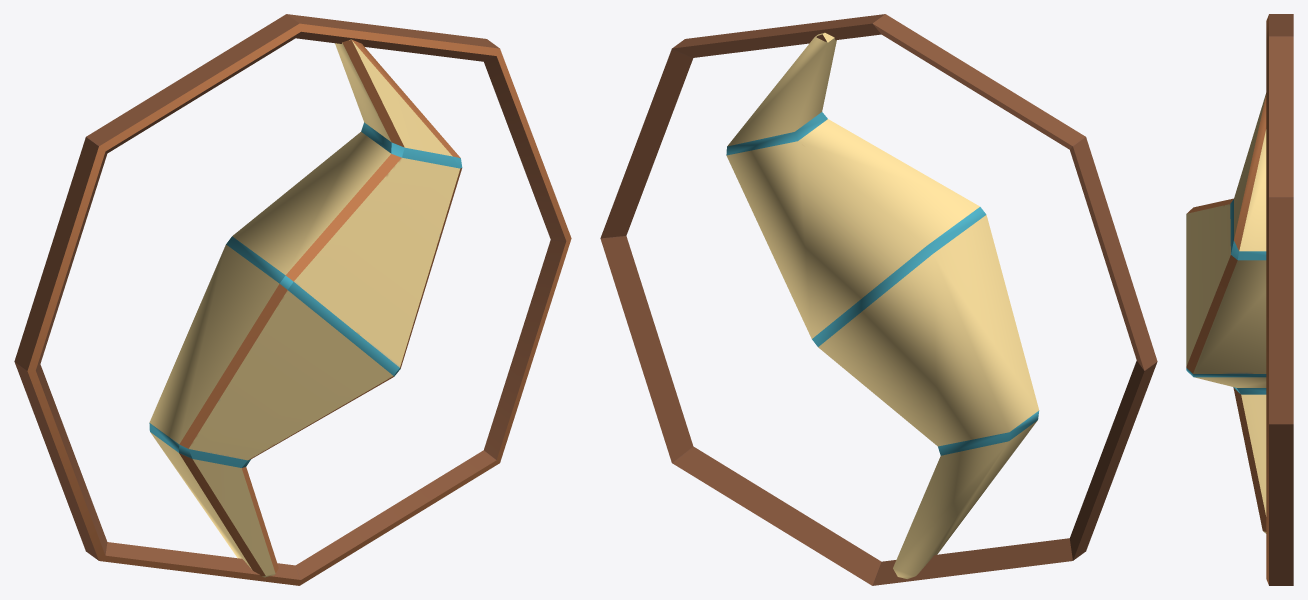
Rendered from Ad05_Art.glb.
The picture shows the model from 3 angles, left to right: view 1: azimuth 30°, elevation 25°; view 2: azimuth 150°, elevation 25°; view 3: azimuth 270°, elevation 25°; orthographic projection. The views are drawn at different scales.
Visible parts, largest first — view 1: Ad05_Art; view 2: Ad05_Art; view 3: Ad05_Art.
Part boxes in pixels (left/top/right/bottom): Ad05_Art: left=14, top=14, right=571, bottom=585; Ad05_Art: left=600, top=14, right=1157, bottom=585; Ad05_Art: left=1186, top=14, right=1293, bottom=585.
Bounding box in the file's own units: 4.96 × 4.9 × 0.9056.
1 material, 1 textured.
